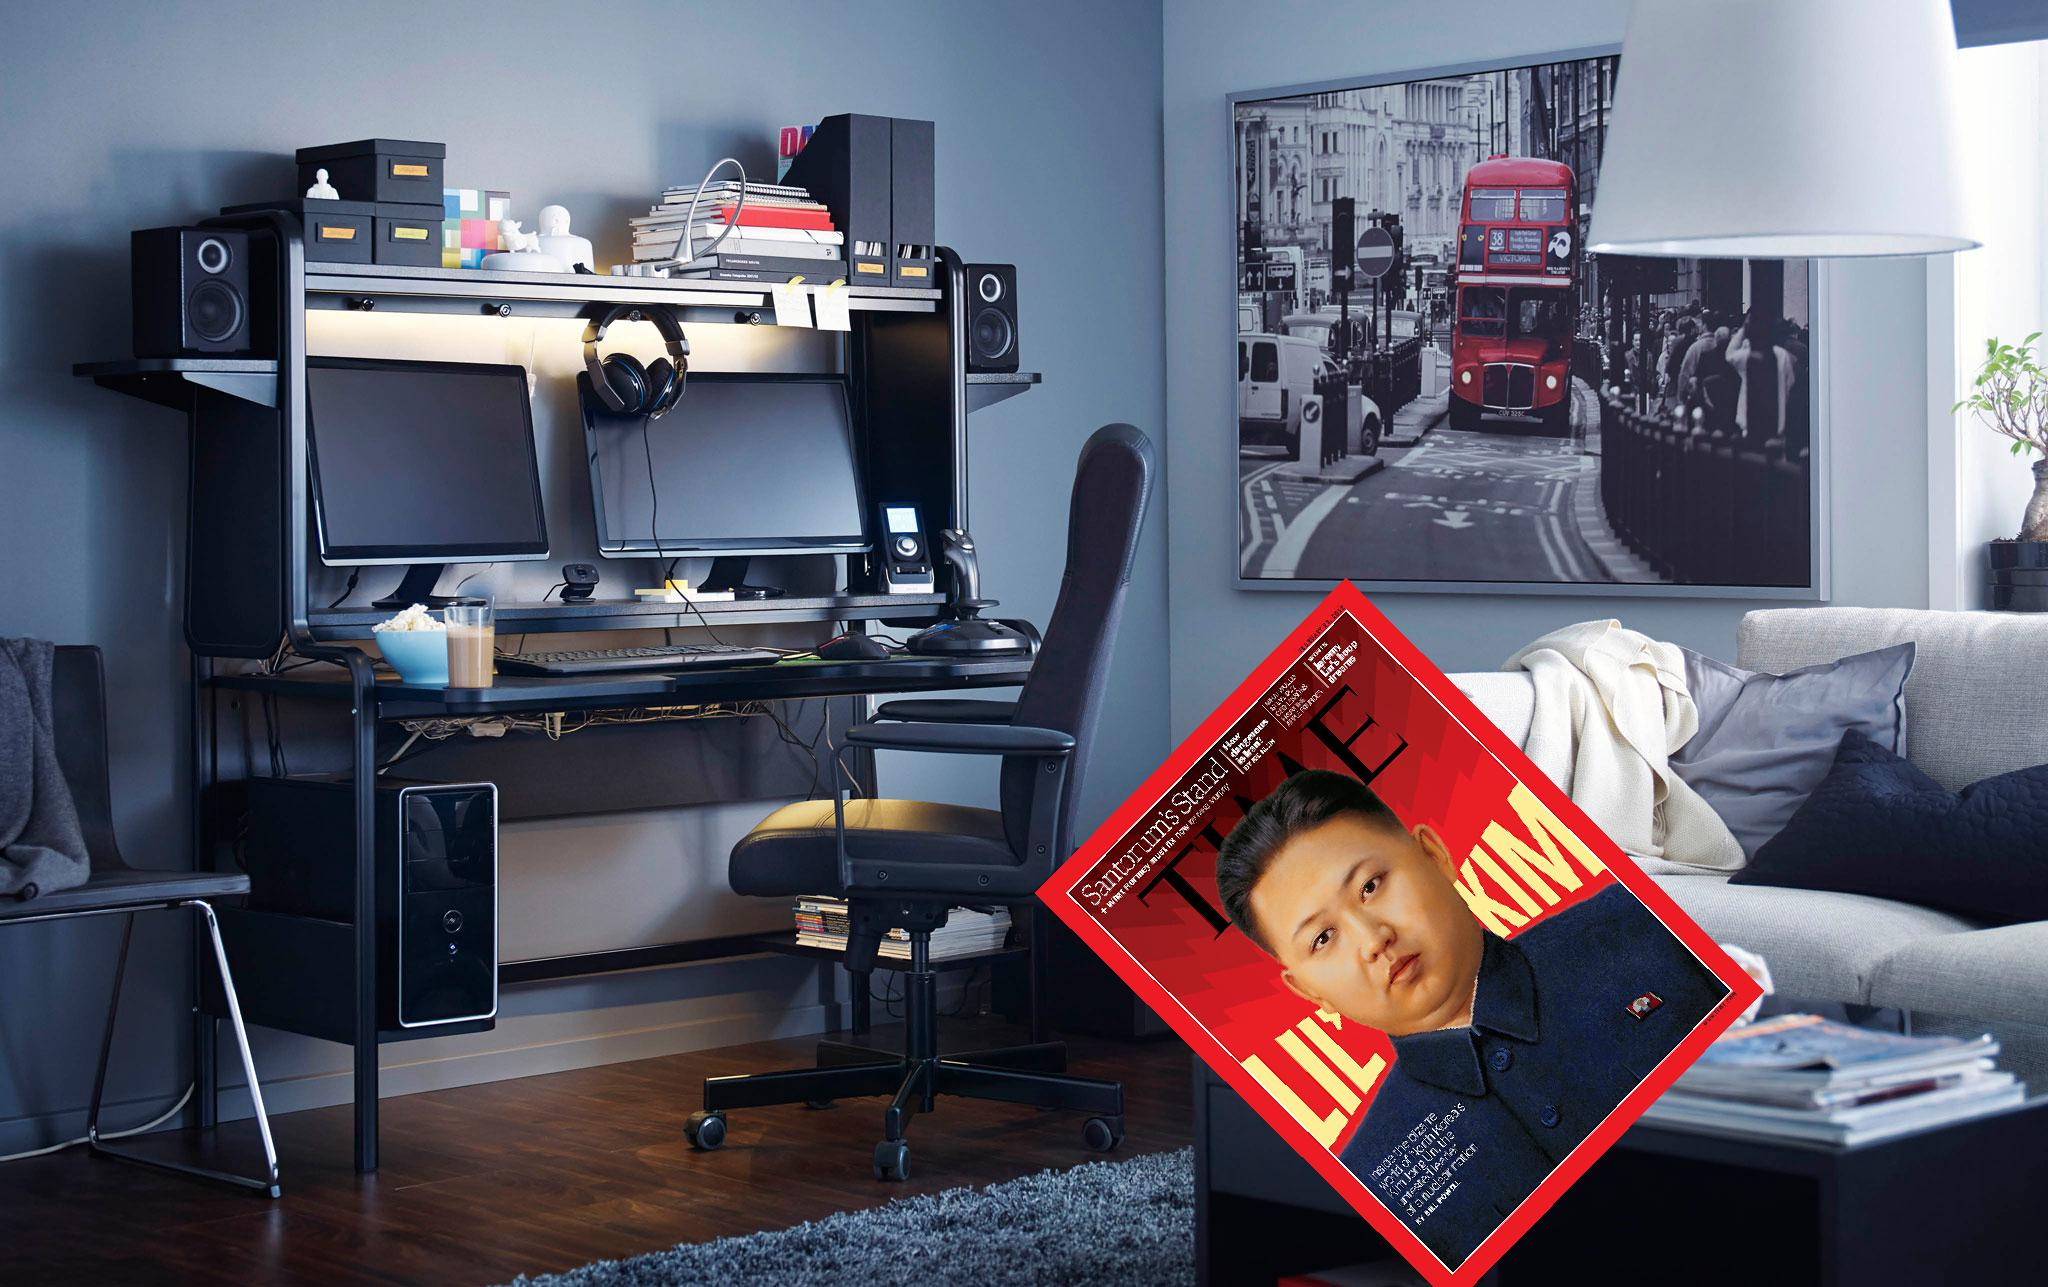times: (1028, 575, 1775, 1287)
